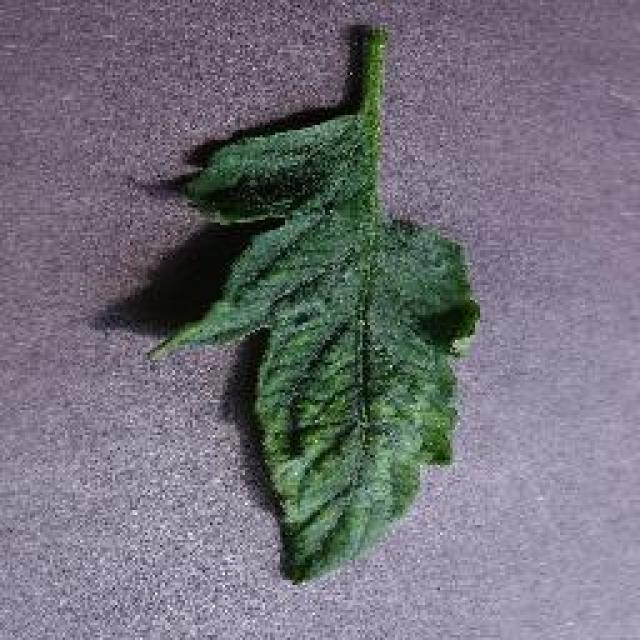Tomato___Tomato_mosaic_virus: (150, 30, 478, 580)
